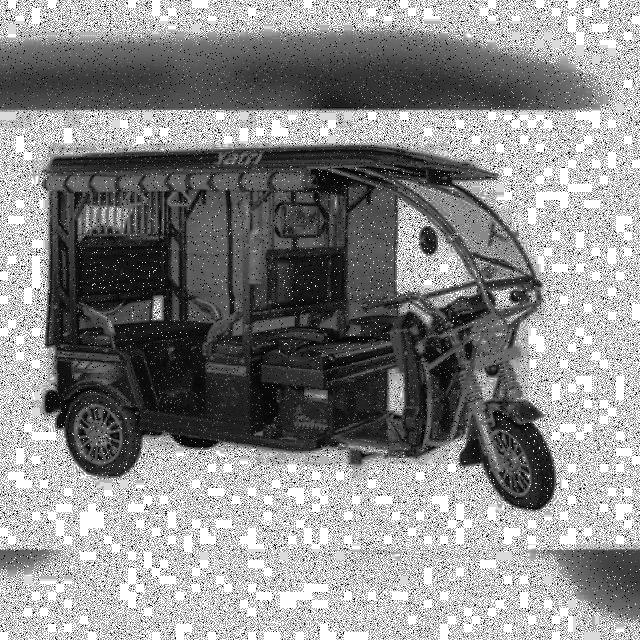Toto: (42, 136, 552, 508)
